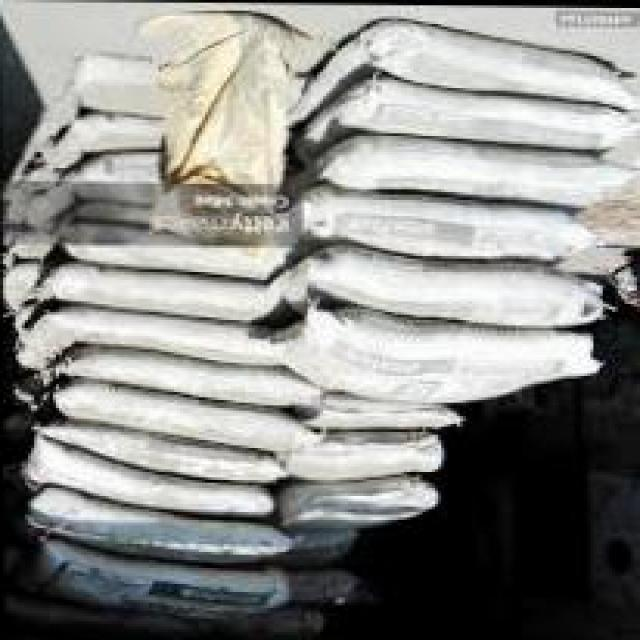gunny_bag: (307, 16, 640, 122), (262, 308, 605, 404), (259, 240, 608, 326), (283, 187, 610, 262), (11, 531, 292, 618), (311, 77, 633, 151), (296, 130, 631, 200), (19, 435, 280, 518), (21, 483, 295, 562), (47, 380, 322, 454), (46, 343, 329, 411), (12, 305, 284, 372), (32, 419, 292, 487), (34, 263, 264, 322), (286, 429, 448, 483), (281, 474, 440, 528), (300, 391, 466, 427)
